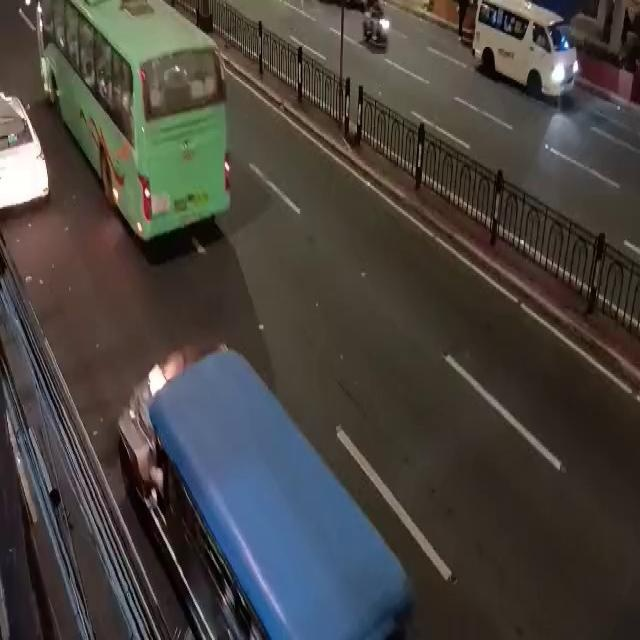bus: (34, 6, 611, 270)
car: (468, 6, 588, 97)
jeepney: (101, 328, 539, 638)
